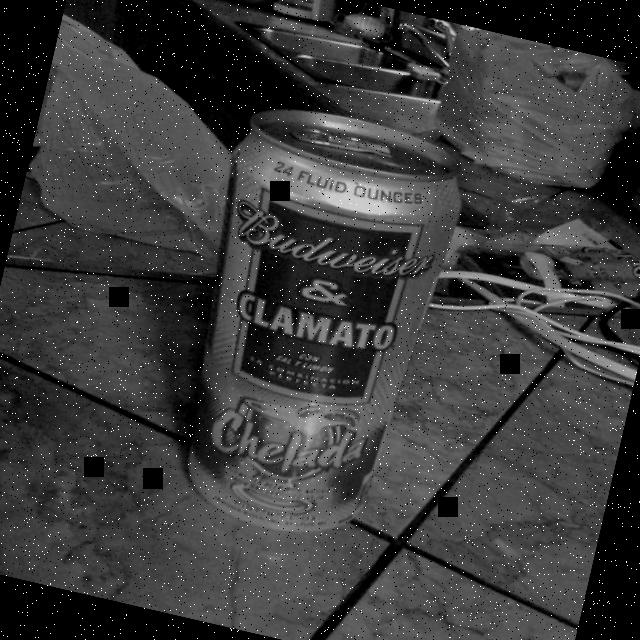can: (146, 90, 480, 560)
